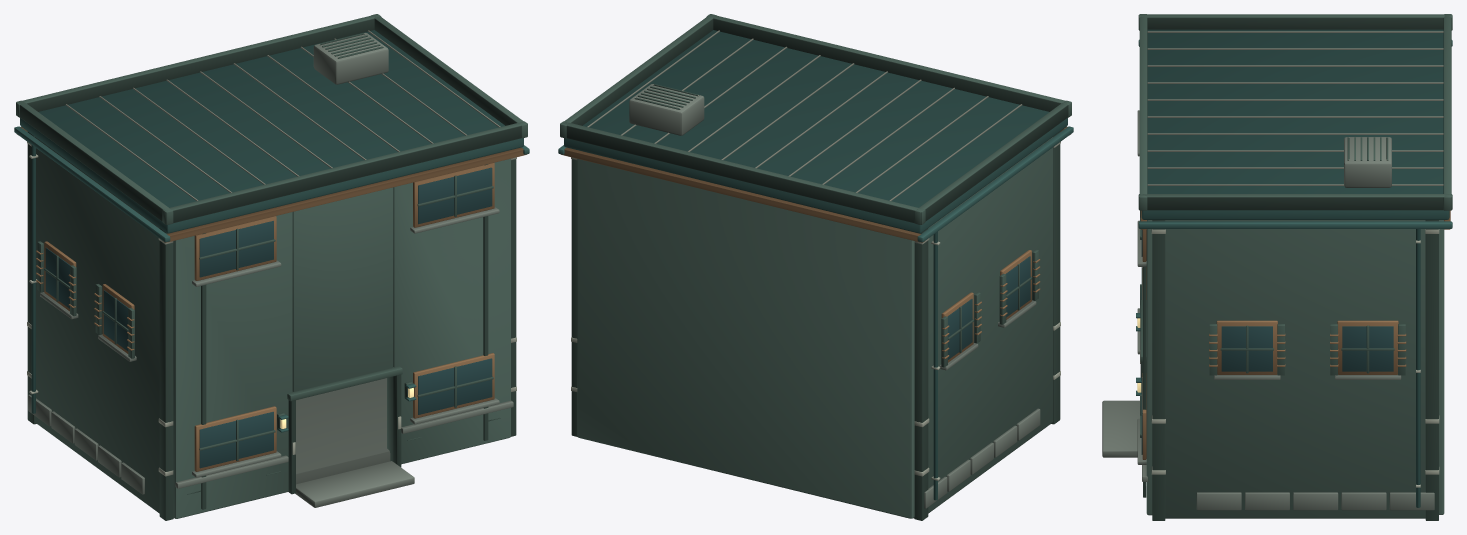
Rendered from kf-relay.glb.
3 views of the same model, side by side, from view 1: azimuth 30°, elevation 25°; view 2: azimuth 150°, elevation 25°; view 3: azimuth 270°, elevation 25° (orthographic). The views are drawn at different scales.
Parts seen in each view (by area): view 1: Shell Painted plaster, Roof Roof metal, RoofDetail Timber trim, Shell Foundation, Shell Timber trim, Shell Window glass, Shell Warm wood, RoofDetail Brushed hardware, Shell Roof metal, RoofDetail Foundation; view 2: Shell Painted plaster, Roof Roof metal, RoofDetail Timber trim, Shell Timber trim, Shell Warm wood, RoofDetail Brushed hardware, Shell Roof metal, Shell Foundation, RoofDetail Foundation, Shell Window glass; view 3: Shell Painted plaster, Roof Roof metal, RoofDetail Timber trim, Shell Timber trim, Shell Foundation, RoofDetail Brushed hardware, Shell Window glass, Shell Roof metal, Shell Warm wood, RoofDetail Foundation, Shell Brushed hardware.
Part boxes in pixels (x1,y1,x2,y2): Shell Painted plaster: [34, 137, 510, 518]; Roof Roof metal: [20, 30, 523, 233]; RoofDetail Timber trim: [16, 14, 527, 224]; Shell Foundation: [28, 207, 513, 507]; Shell Timber trim: [27, 132, 516, 520]; Shell Window glass: [45, 167, 492, 468]; Shell Warm wood: [17, 127, 526, 471]; RoofDetail Brushed hardware: [65, 30, 500, 200]; Shell Roof metal: [14, 126, 529, 432]; RoofDetail Foundation: [313, 33, 388, 84]; Shell Painted plaster: [577, 137, 1053, 518]; Roof Roof metal: [564, 30, 1067, 233]; RoofDetail Timber trim: [560, 14, 1071, 224]; Shell Timber trim: [571, 132, 1060, 520]; Shell Warm wood: [561, 127, 1070, 362]; RoofDetail Brushed hardware: [587, 30, 1022, 200]; Shell Roof metal: [558, 126, 1073, 500]; Shell Foundation: [913, 300, 1040, 518]; RoofDetail Foundation: [629, 84, 704, 135]; Shell Window glass: [947, 256, 1030, 359]; Shell Painted plaster: [1146, 220, 1444, 518]; Roof Roof metal: [1141, 29, 1449, 219]; RoofDetail Timber trim: [1138, 14, 1452, 210]; Shell Timber trim: [1140, 210, 1438, 520]; Shell Foundation: [1102, 110, 1434, 510]; RoofDetail Brushed hardware: [1147, 31, 1443, 185]; Shell Window glass: [1141, 229, 1393, 454]; Shell Roof metal: [1136, 39, 1452, 507]; Shell Warm wood: [1140, 210, 1450, 459]; RoofDetail Foundation: [1344, 137, 1391, 187]; Shell Brushed hardware: [1140, 229, 1439, 487].
Bounding box in the file's own units: 10.88 × 9.41 × 8.7.
